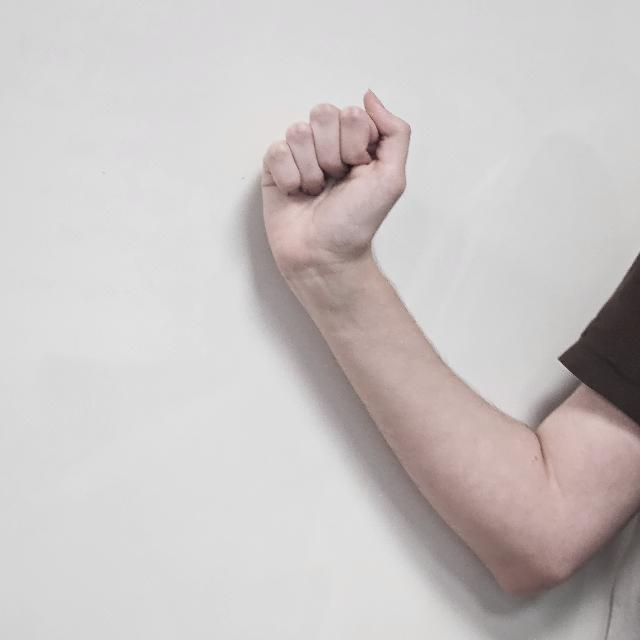Quadro: (256, 88, 412, 276)
